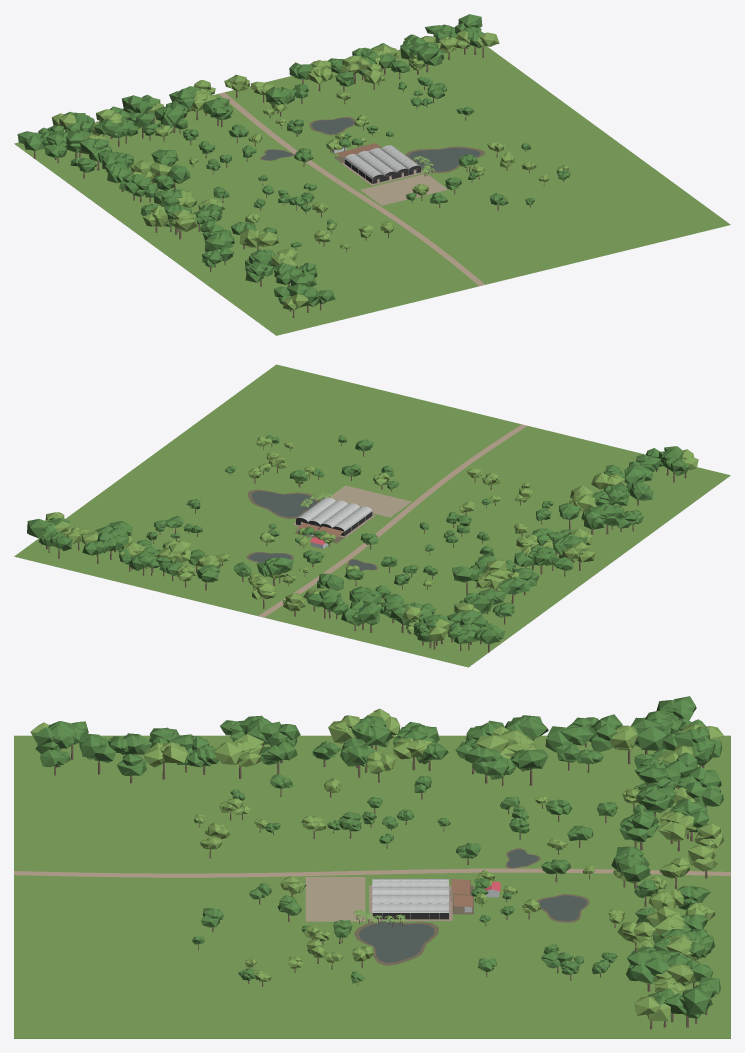
Rendered from vivero.glb.
3 renders of one model, top to bottom at view 1: azimuth 30°, elevation 25°; view 2: azimuth 150°, elevation 25°; view 3: azimuth 270°, elevation 25°, orthographic. The views are drawn at different scales.
Parts seen in each view (by area): view 1: Pasto, Arboles_copa, Arboles_copa_clara, Agua, Via, Polisombra_arco, Lote_seco, Arboles_tronco, Barro; view 2: Pasto, Arboles_copa, Arboles_copa_clara, Agua, Via, Polisombra_arco, Arboles_tronco, Lote_seco; view 3: Pasto, Arboles_copa, Arboles_copa_clara, Agua, Via, Lote_seco, Polisombra_arco, Arboles_tronco, Barro.
Part boxes in pixels (left/top/right/bottom): Pasto: left=14, top=45, right=730, bottom=335; Arboles_copa: left=17, top=14, right=570, bottom=306; Arboles_copa_clara: left=51, top=29, right=569, bottom=310; Agua: left=261, top=118, right=480, bottom=171; Via: left=219, top=92, right=485, bottom=285; Polisombra_arco: left=344, top=145, right=419, bottom=178; Lote_seco: left=360, top=173, right=447, bottom=205; Arboles_tronco: left=33, top=47, right=563, bottom=317; Barro: left=260, top=117, right=484, bottom=172; Pasto: left=14, top=364, right=730, bottom=667; Arboles_copa: left=27, top=435, right=689, bottom=644; Arboles_copa_clara: left=44, top=436, right=698, bottom=641; Agua: left=249, top=491, right=375, bottom=570; Via: left=258, top=424, right=527, bottom=617; Polisombra_arco: left=298, top=497, right=372, bottom=531; Arboles_tronco: left=46, top=443, right=686, bottom=652; Lote_seco: left=329, top=485, right=411, bottom=517; Pasto: left=14, top=735, right=730, bottom=1038; Arboles_copa: left=33, top=696, right=723, bottom=1018; Arboles_copa_clara: left=30, top=708, right=723, bottom=1021; Agua: left=358, top=849, right=586, bottom=962; Via: left=14, top=868, right=730, bottom=877; Lote_seco: left=305, top=877, right=365, bottom=921; Polisombra_arco: left=372, top=878, right=448, bottom=912; Arboles_tronco: left=54, top=743, right=707, bottom=1029; Barro: left=354, top=848, right=589, bottom=965.
Size of the model in its own units: 308 by 19.71 by 300.
